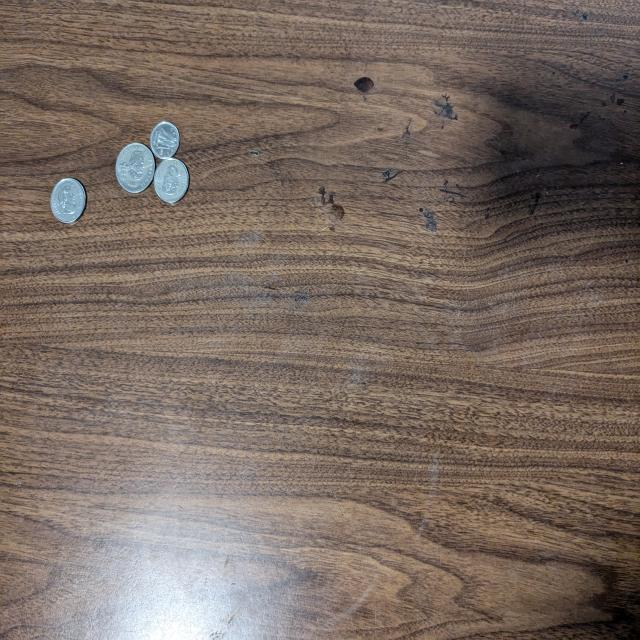dime: (150, 121, 181, 161)
nickel: (153, 160, 191, 206), (51, 177, 88, 224)
quarter: (115, 141, 156, 195)
